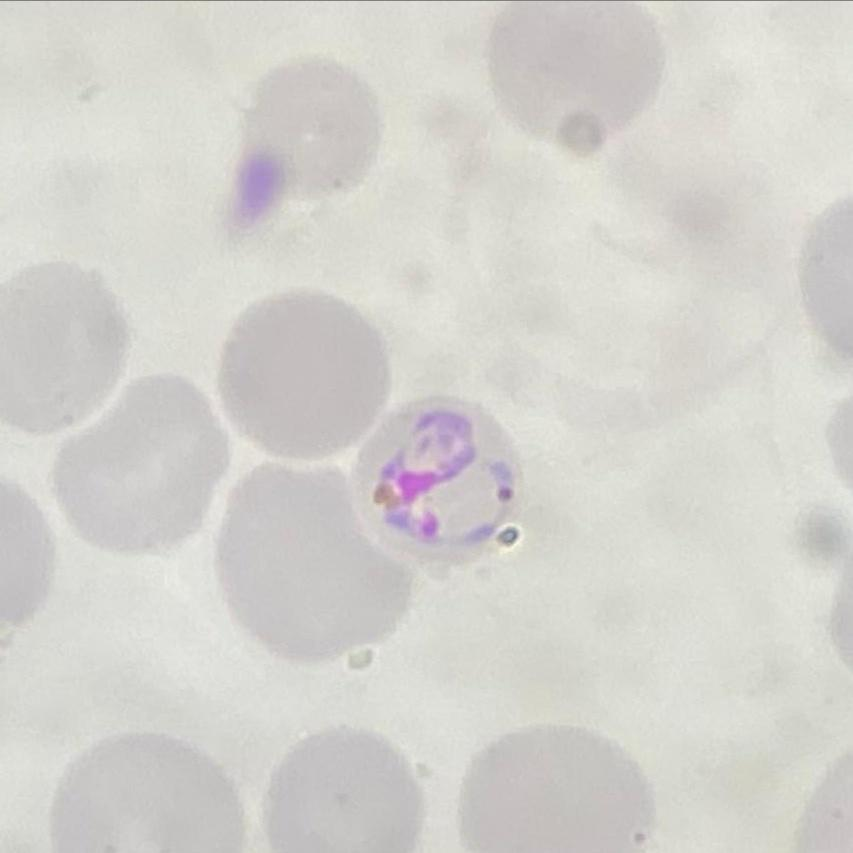Infected: (354, 393, 534, 573)
Uninfected: (222, 461, 411, 666), (48, 371, 227, 553), (222, 293, 398, 457), (494, 0, 669, 152), (454, 725, 658, 853), (0, 261, 129, 437), (54, 737, 242, 853), (268, 725, 426, 853), (238, 55, 381, 196)
